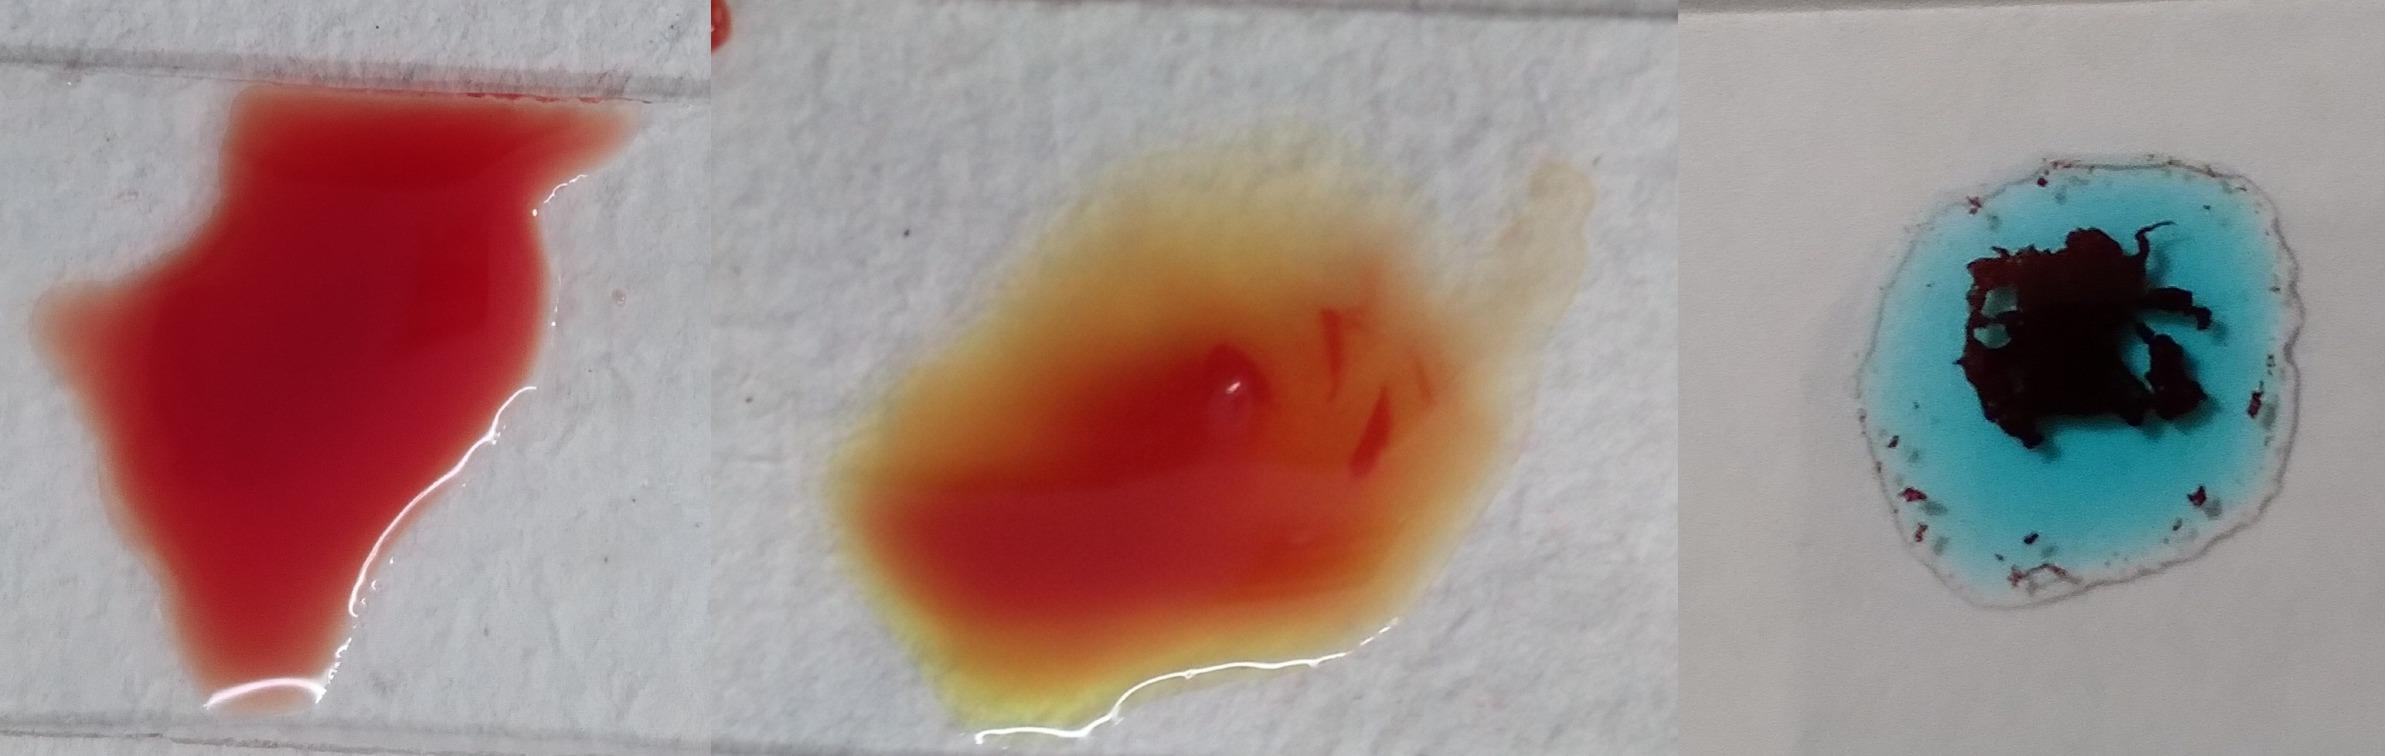A: (1878, 132, 2318, 611)
